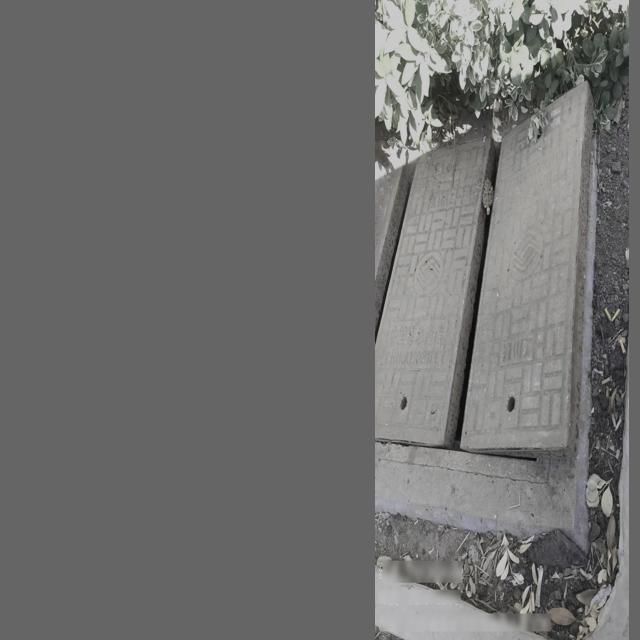uncovered: (375, 74, 594, 466)
